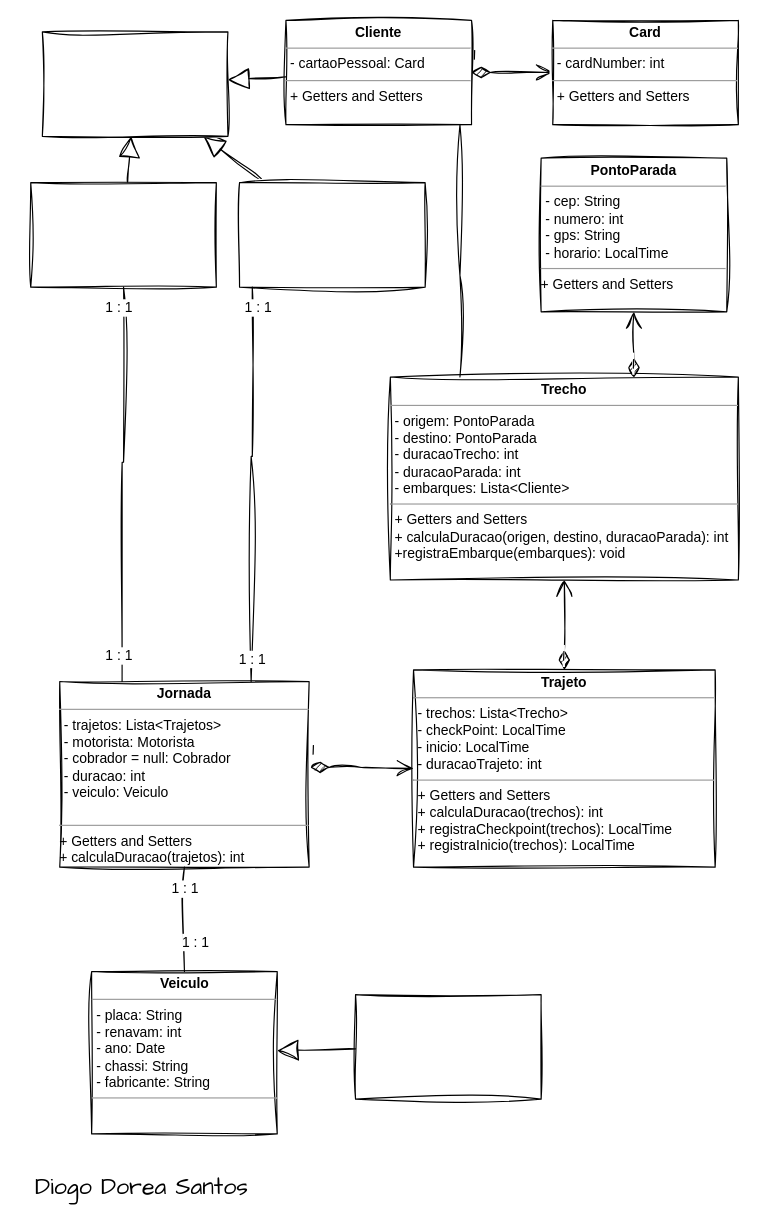
Some shapes in this 759 by 1224 pixel diagram are drawn without their labels. Each missing label, with the centre of its shape:
"Cobrador - ctps: int + Getters and Setters" belongs at point (123, 234).
"Motorista - cnh: int - ctps: int + Getters and Setters" belongs at point (331, 234).
"Onibus - numero: int - modelo: String" belongs at point (447, 1046).
"Pessoa + nome: String -cpf: int + Getters and Setters" belongs at point (134, 83).
